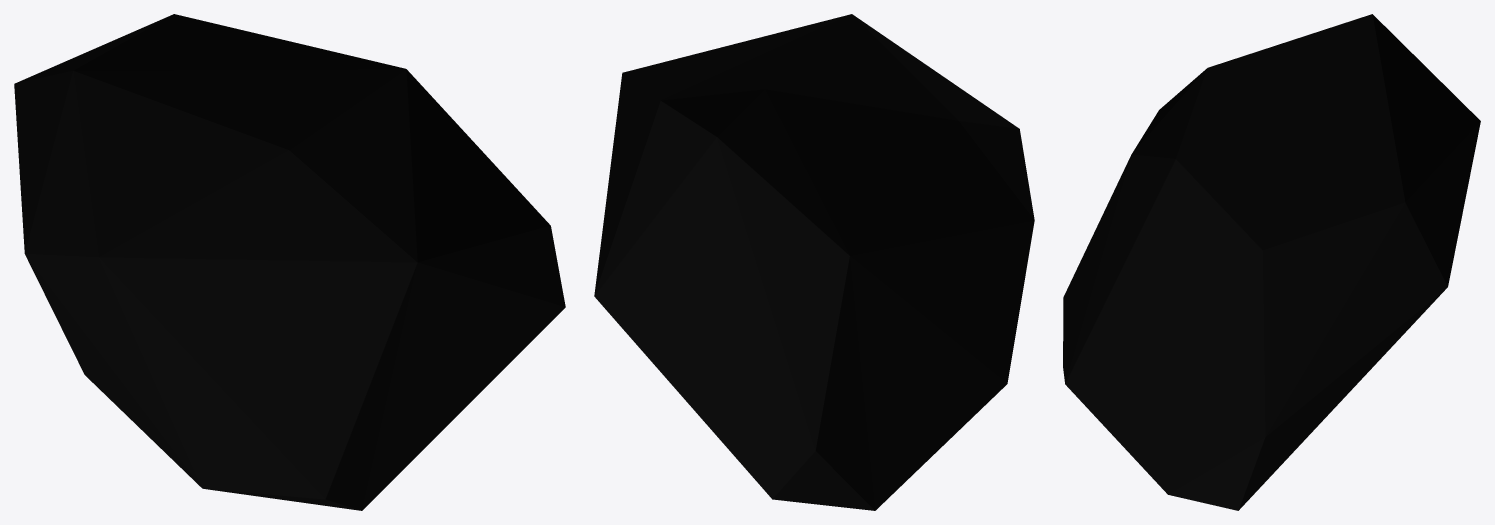
3 views of the same model, side by side, from view 1: azimuth 30°, elevation 25°; view 2: azimuth 150°, elevation 25°; view 3: azimuth 270°, elevation 25° (orthographic). The views are drawn at different scales.
Size of the model in its own units: 0.6671 by 0.711 by 0.6486.
1 material, 1 textured.
